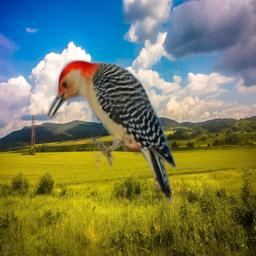Woodpecker: (46, 59, 178, 205)
